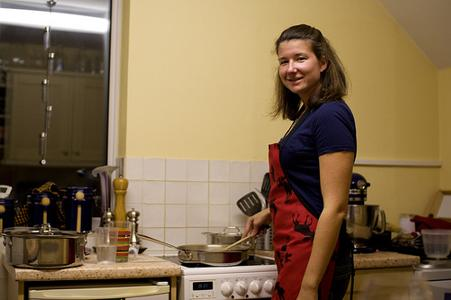person: (241, 25, 358, 300)
